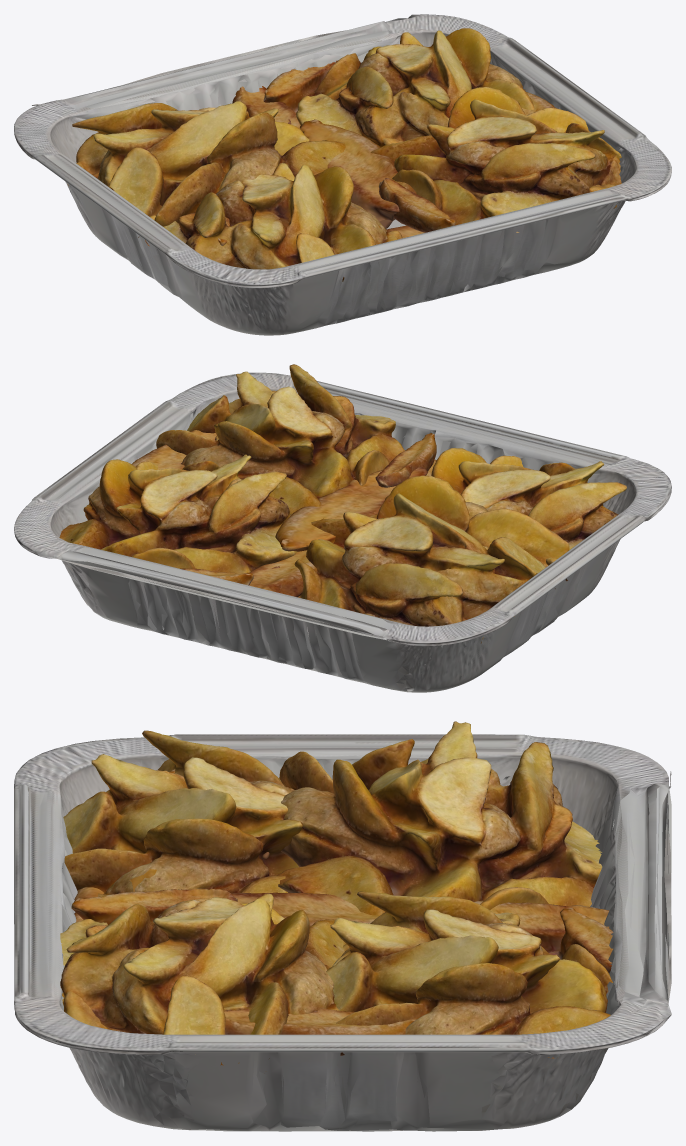
Rendered from fries.tanoori.glb.
The picture shows the model from 3 angles, top to bottom: view 1: azimuth 30°, elevation 25°; view 2: azimuth 150°, elevation 25°; view 3: azimuth 270°, elevation 25°; orthographic projection. The views are drawn at different scales.
Visible parts, largest first — view 1: node_0, 3DModel.002, 3DModel.005, 3DModel.004, 3DModel.003, 3DModel.007, 3DModel.008; view 2: node_0, 3DModel.005, 3DModel.004, 3DModel.002, 3DModel.003, 3DModel.007, 3DModel.008, 3DModel.009; view 3: node_0, 3DModel.005, 3DModel.002, 3DModel.004, 3DModel.003, 3DModel.009, 3DModel.007, 3DModel.008.
Part boxes in pixels (x1,y1,x2,y2): node_0: (14,14,671,335); 3DModel.002: (370,87,621,232); 3DModel.005: (67,101,345,237); 3DModel.004: (263,28,534,147); 3DModel.003: (145,163,402,281); 3DModel.007: (300,119,416,232); 3DModel.008: (232,86,300,129); node_0: (14,372,671,692); 3DModel.005: (271,475,569,643); 3DModel.004: (59,454,297,585); 3DModel.002: (156,364,436,515); 3DModel.003: (431,448,626,581); 3DModel.007: (275,467,427,551); 3DModel.008: (249,550,317,597); 3DModel.009: (132,430,216,469); node_0: (14,734,671,1131); 3DModel.005: (261,721,602,915); 3DModel.002: (60,888,345,1065); 3DModel.004: (326,891,613,1058); 3DModel.003: (63,730,302,896); 3DModel.009: (224,1008,419,1055); 3DModel.007: (129,869,379,926); 3DModel.008: (474,900,609,952).
Size of the model in its own units: 0.3072 by 0.0867 by 0.2716.
2 materials, 2 textured.
